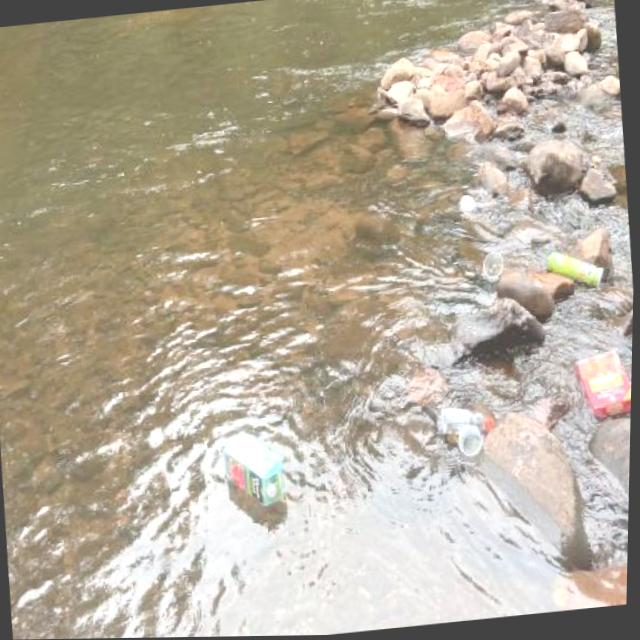Can-Metal: (544, 243, 611, 300)
Cardboard: (213, 418, 297, 521), (571, 343, 634, 422)
Plastic: (429, 399, 503, 463)
